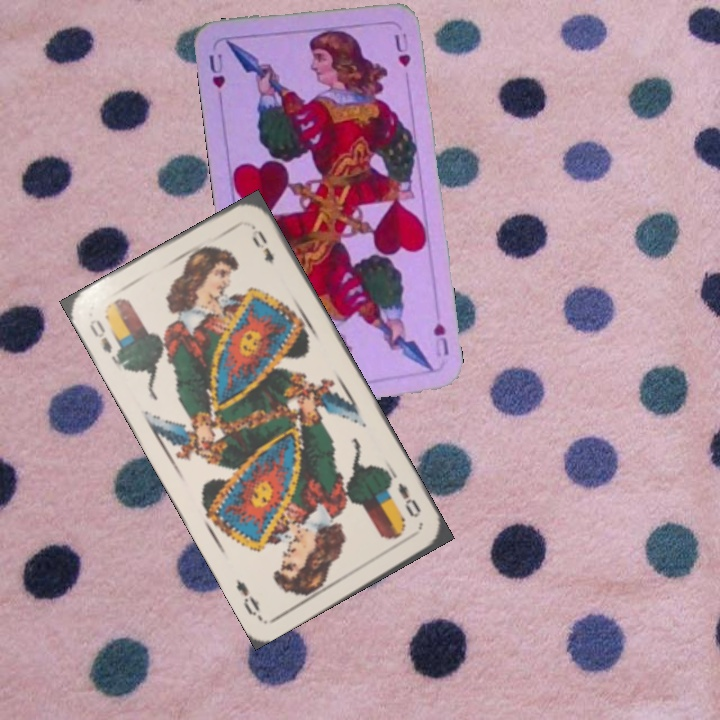EO: (85, 314, 125, 366), (393, 479, 424, 521)
HU: (429, 318, 452, 360), (205, 50, 228, 91)
